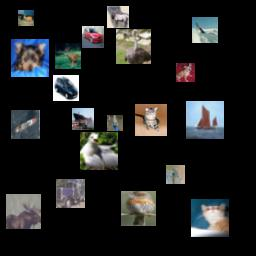airplane: (192, 17, 218, 43)
automobile: (53, 75, 79, 101), (82, 26, 104, 48)
bird: (80, 132, 118, 170), (116, 29, 151, 64), (121, 191, 156, 226), (166, 165, 185, 184), (107, 115, 123, 131)
cat: (191, 199, 229, 237), (135, 104, 167, 136)
deer: (6, 194, 41, 229), (55, 43, 81, 69), (107, 6, 129, 28), (18, 10, 34, 26)
dog: (11, 39, 49, 77), (176, 63, 195, 82)
ship: (186, 101, 224, 139), (11, 110, 40, 139), (72, 108, 94, 130)
truck: (56, 179, 85, 208)
